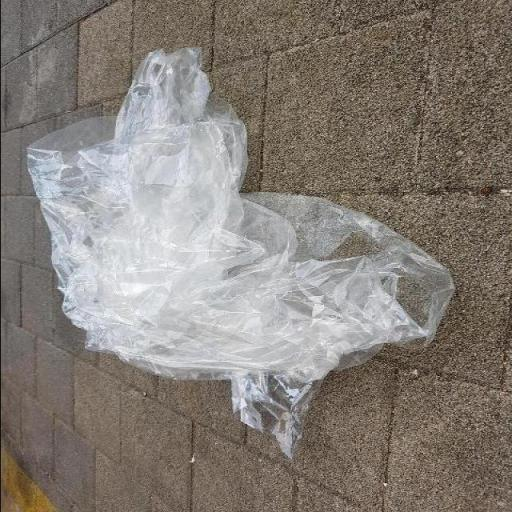plastic-bag: (22, 43, 458, 457)
